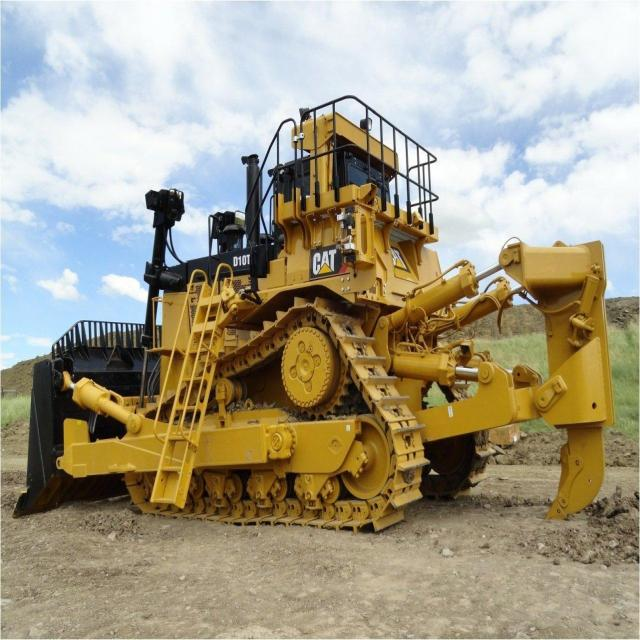Bulldozer: (14, 70, 626, 537)
